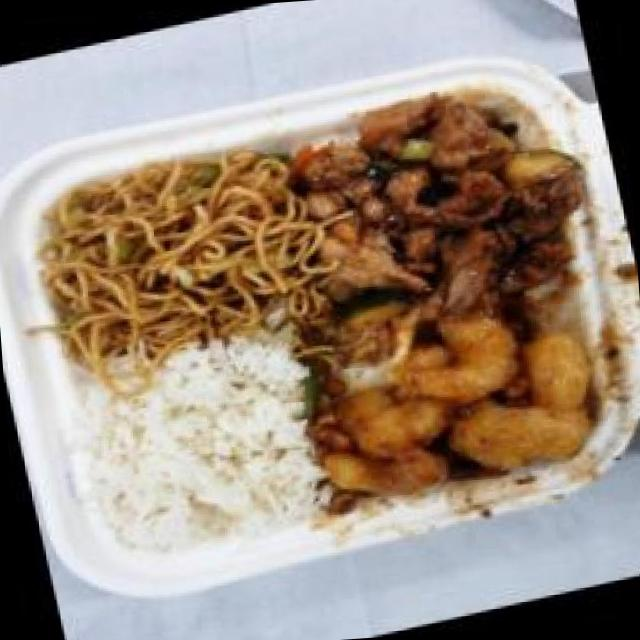Chow Mein: (19, 128, 336, 382)
Honey Walnut Shrimp: (292, 283, 640, 539)
Kung Pao Chicken: (286, 65, 608, 358)
White Steamed Rice: (64, 324, 342, 570)
